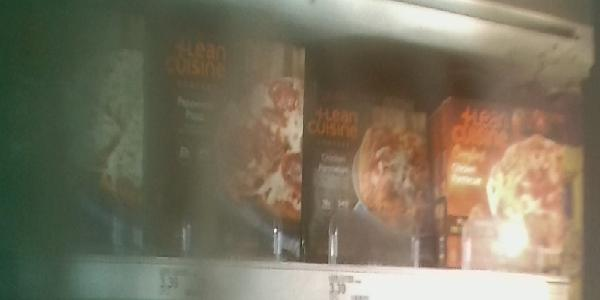pizza1: (149, 33, 305, 260), (11, 21, 145, 251), (451, 100, 584, 288), (307, 94, 437, 271)
